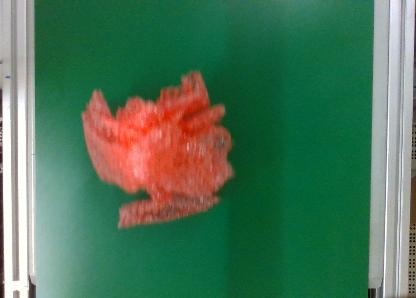Others: (80, 70, 235, 230)
